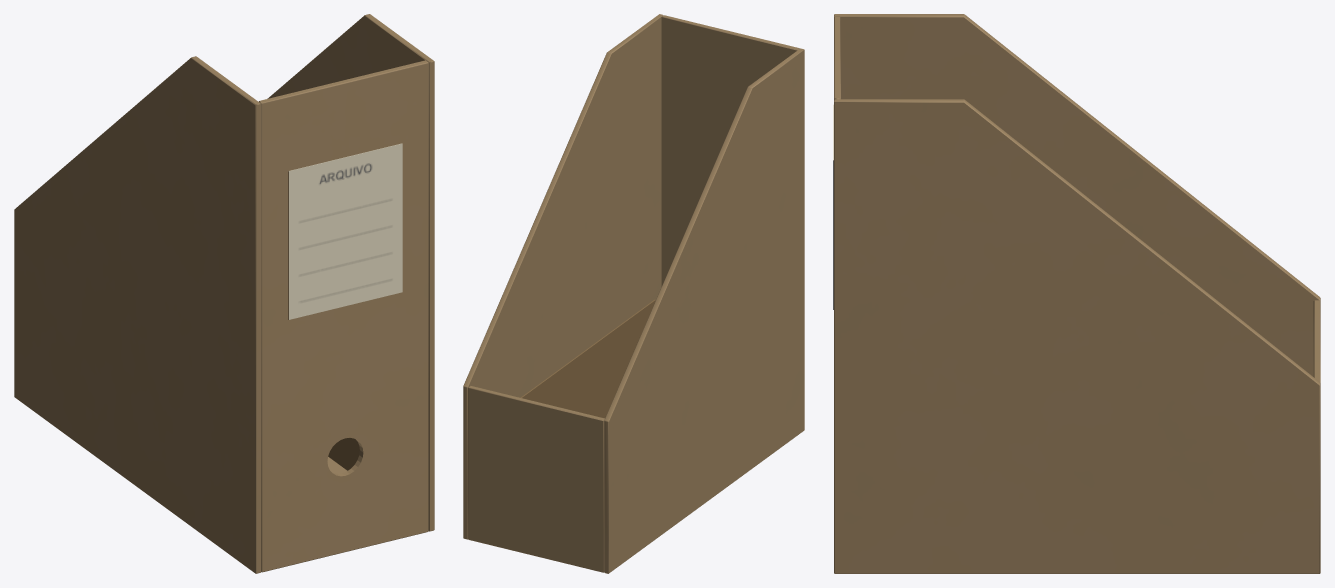
Rendered from caixa_arquivo_realista.glb.
3 renders of one model, left to right at view 1: azimuth 30°, elevation 25°; view 2: azimuth 150°, elevation 25°; view 3: azimuth 270°, elevation 25°, orthographic. The views are drawn at different scales.
Parts seen in each view (by area): view 1: Caixa_arquivo; view 2: Caixa_arquivo; view 3: Caixa_arquivo.
Boxes of the visible parts, left/top/right/bottom form: Caixa_arquivo: left=14, top=14, right=434, bottom=573; Caixa_arquivo: left=463, top=14, right=804, bottom=573; Caixa_arquivo: left=833, top=14, right=1320, bottom=573.
Bounding box in the file's own units: 0.12 × 0.3 × 0.2803.
Materials: 1 (1 with a texture image).
